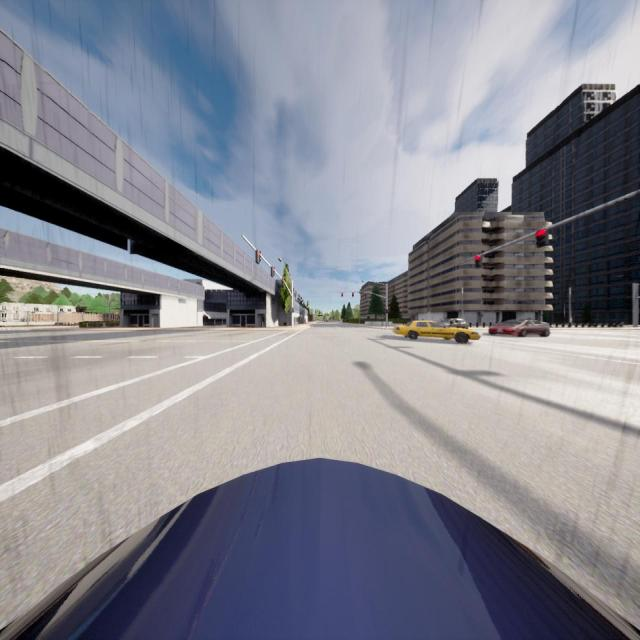Vehicle: (0, 459, 640, 640), (394, 318, 481, 343), (488, 319, 549, 337)
traffic_light: (536, 229, 547, 248), (255, 249, 261, 264), (475, 256, 482, 268), (270, 266, 274, 277), (281, 279, 284, 286), (292, 307, 294, 313), (341, 292, 343, 297), (352, 292, 354, 297), (386, 309, 388, 313), (365, 292, 366, 298)
